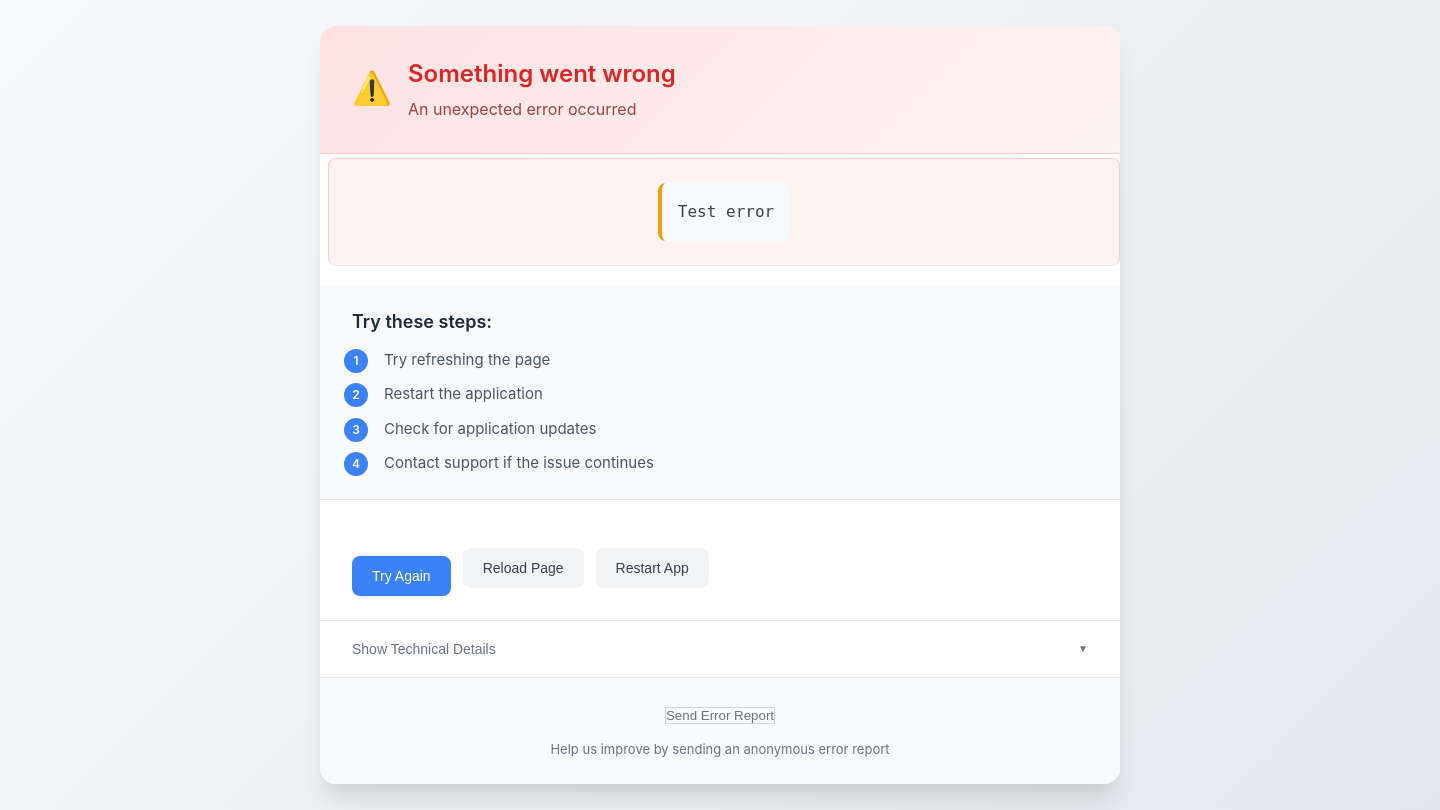
Scenario: ErrorBoundary › shows technical details when expanded
This screenshot has width=1440, height=810.
What coordinates should you click on to do the following:
click the button "Show Technical Details"
I would click on:
 (370, 649)
Its box is [320, 621, 1120, 677].
(page scrolled)
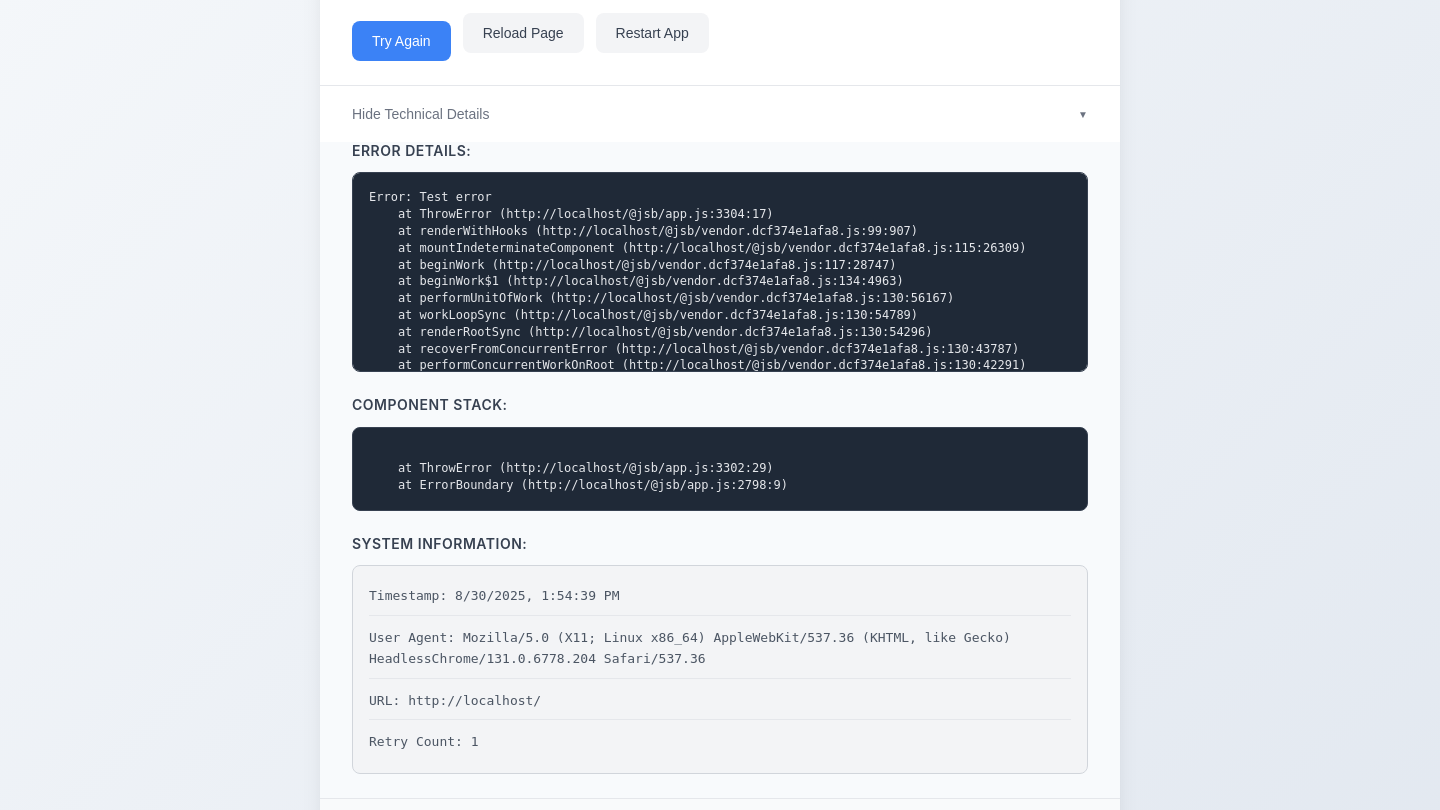
Check: the heading "Error Details:" is shown, box [352, 142, 471, 159]
Check: the heading "Component Stack:" is shown, box [352, 396, 508, 413]
